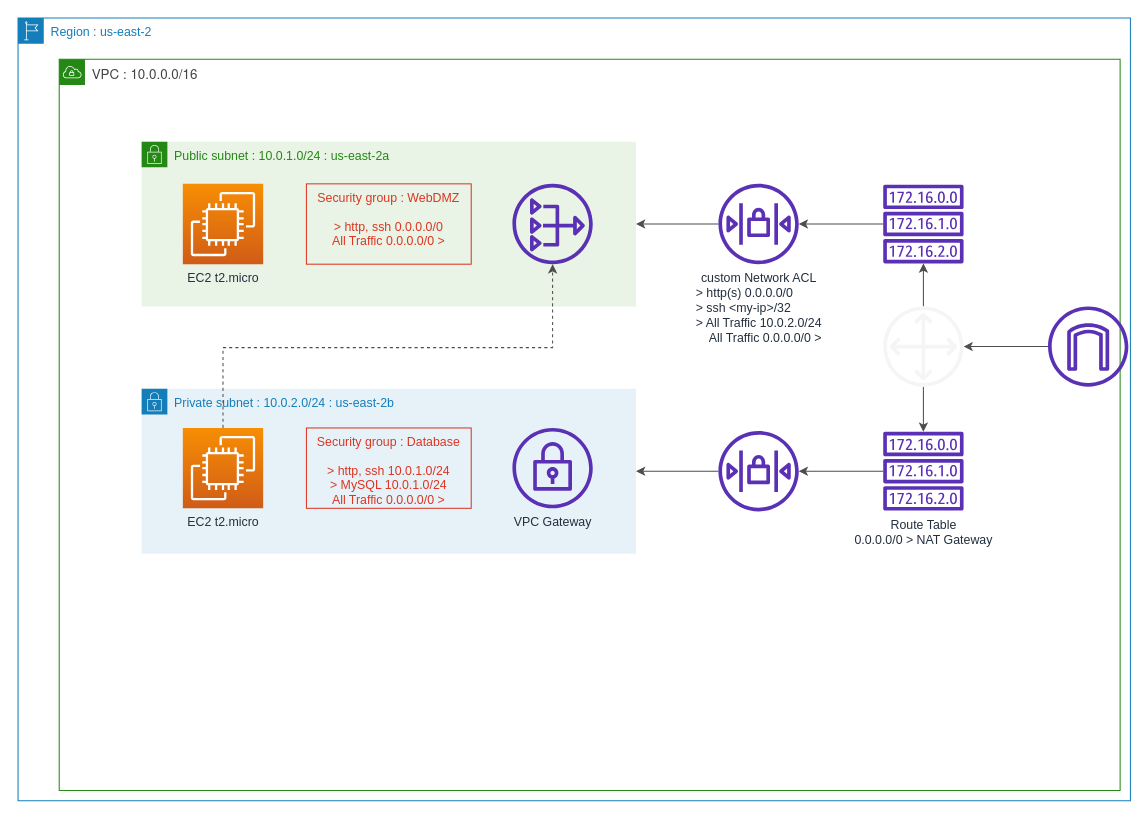
The diagram is 1148 pixels wide and 819 high, and some of its shapes have lost their labels. The shapes that lost their labels are listed below. From the top down, each one's centre as x and y in pixels, then its label:
At (x=552, y=223): "NAT Gateway".
At (x=923, y=223): "Route Table 0.0.0.0/0 > Internet Gateway".
At (x=923, y=346): "Router".
At (x=1088, y=346): "Internet Gateway".
At (x=758, y=471): "custom Network ACL > ssh 10.0.1/24 All Traffic 0.0.0.0/0 >".
